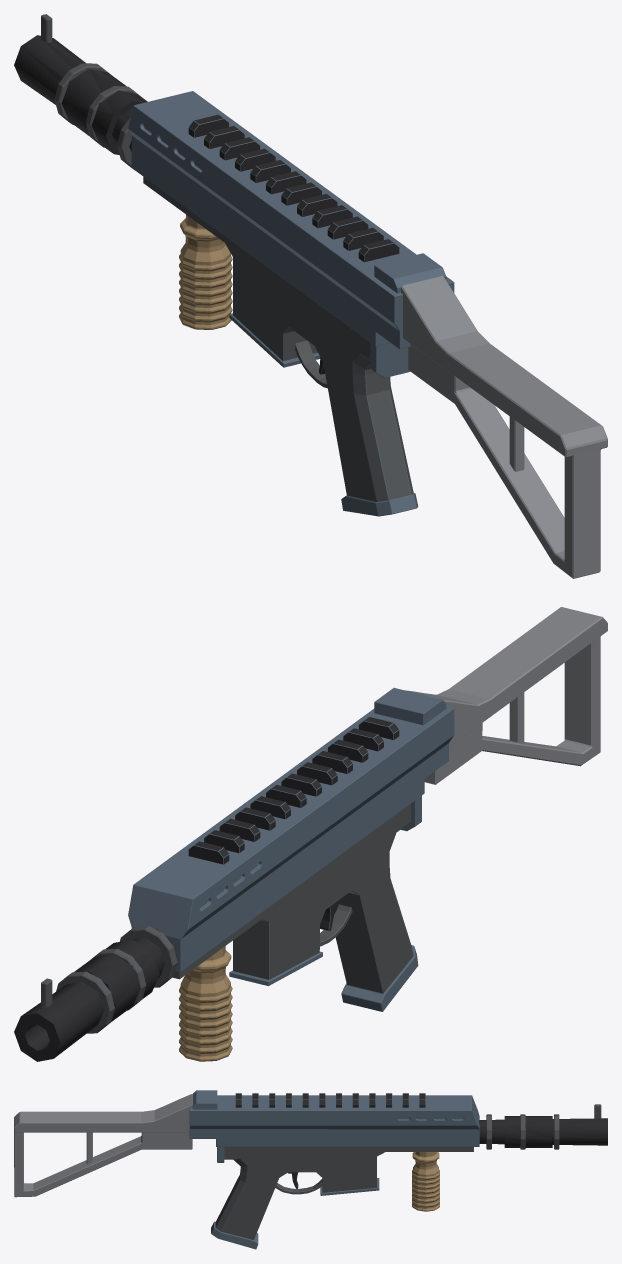
Rendered from smg.glb.
3 views of the same model, one above another, from view 1: azimuth 30°, elevation 25°; view 2: azimuth 150°, elevation 25°; view 3: azimuth 270°, elevation 25° (orthographic). The views are drawn at different scales.
Visible parts, largest first — view 1: smg; view 2: smg; view 3: smg.
Part boxes in pixels (<box>): smg: <box>14,14,607,578</box>; smg: <box>14,607,607,1061</box>; smg: <box>14,1090,607,1249</box>.
Size of the model in its own units: 0.0378 by 0.1649 by 0.6.
